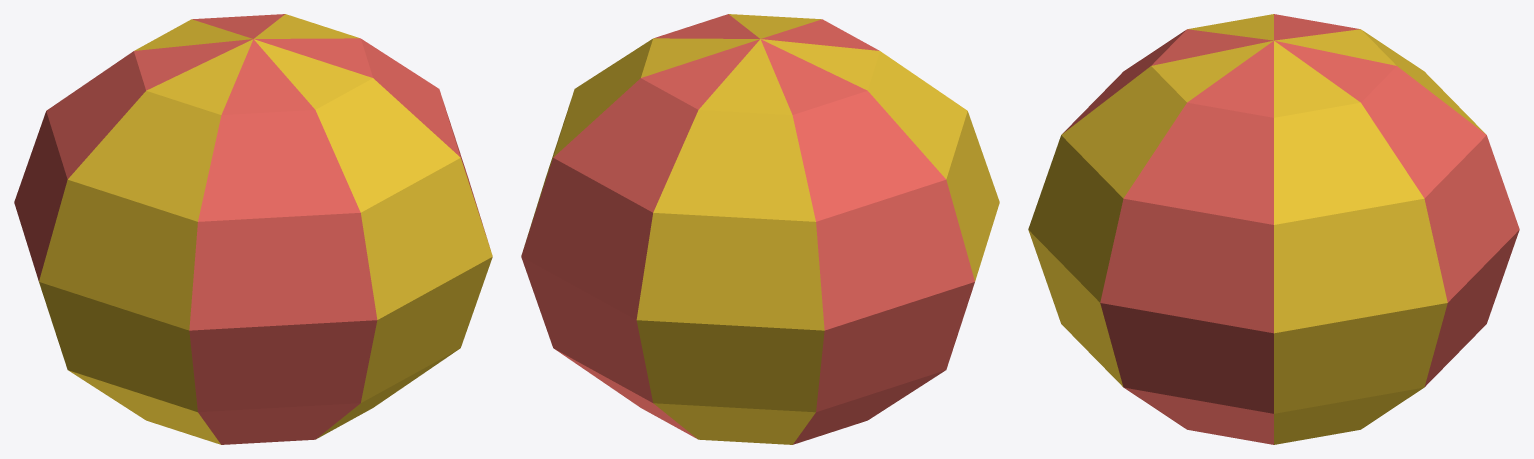
File: balloon.fbx
3 renders of one model, left to right at view 1: azimuth 30°, elevation 25°; view 2: azimuth 150°, elevation 25°; view 3: azimuth 270°, elevation 25°, orthographic.
Visible parts, largest first — view 1: balloon; view 2: balloon; view 3: balloon.
Boxes of the visible parts, bbox=[...] form: balloon: bbox=[14, 14, 492, 444]; balloon: bbox=[521, 14, 999, 444]; balloon: bbox=[1028, 14, 1519, 444].
Bounding box in the file's own units: 1.43 × 1.21 × 1.43.
